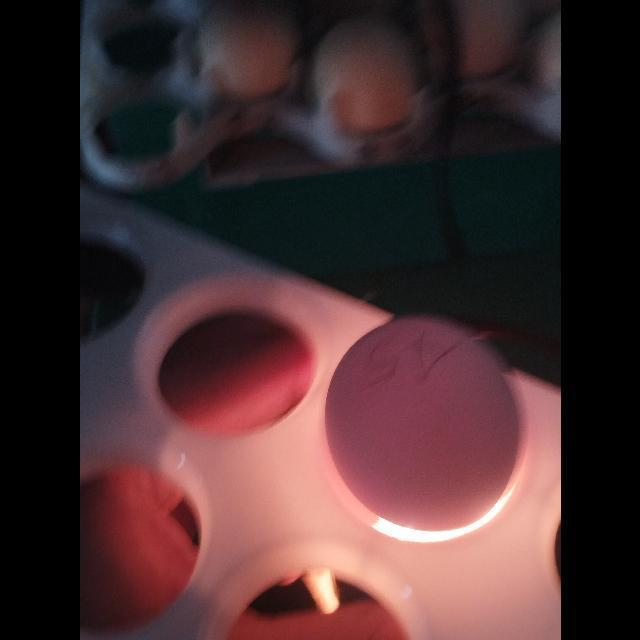A - Good: (319, 299, 536, 548)
